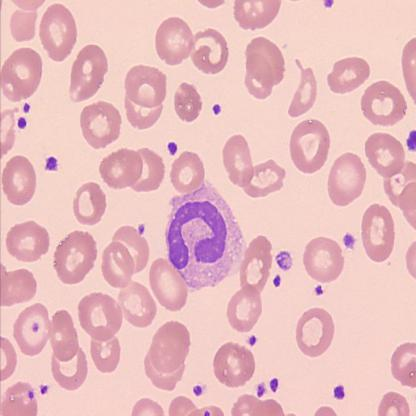Band Neutrophil: (163, 176, 246, 291)
